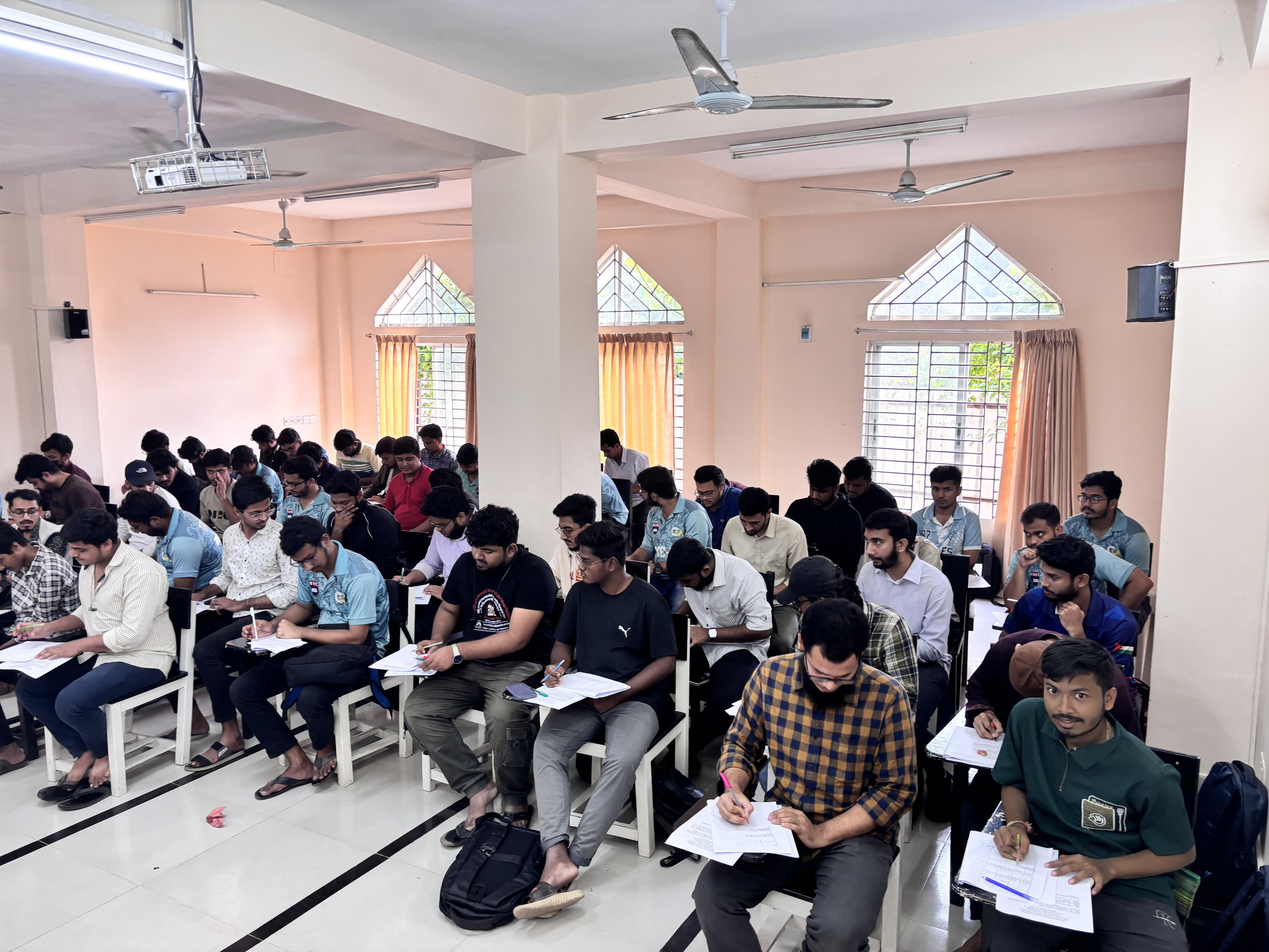copying: (537, 528, 655, 763), (244, 519, 380, 674), (214, 478, 288, 617), (7, 483, 60, 548), (140, 444, 186, 508), (117, 456, 173, 500)
no_cheating: (966, 634, 1199, 946), (692, 598, 891, 923), (395, 500, 547, 769), (40, 508, 161, 754), (654, 532, 786, 680), (0, 520, 72, 722), (844, 510, 949, 646), (1016, 539, 1119, 671), (725, 482, 813, 603), (403, 476, 480, 600), (782, 457, 858, 569), (1067, 459, 1137, 560), (324, 471, 393, 571), (916, 457, 982, 556), (1001, 494, 1073, 574), (13, 450, 98, 517), (272, 448, 338, 531), (681, 456, 756, 526), (552, 492, 609, 583), (382, 433, 433, 526), (591, 422, 650, 492), (196, 443, 241, 531), (832, 451, 884, 516), (328, 422, 380, 483), (244, 419, 294, 472), (409, 416, 450, 476), (34, 426, 83, 473), (449, 439, 483, 502), (272, 420, 318, 464)
side_talking: (623, 460, 698, 567)
